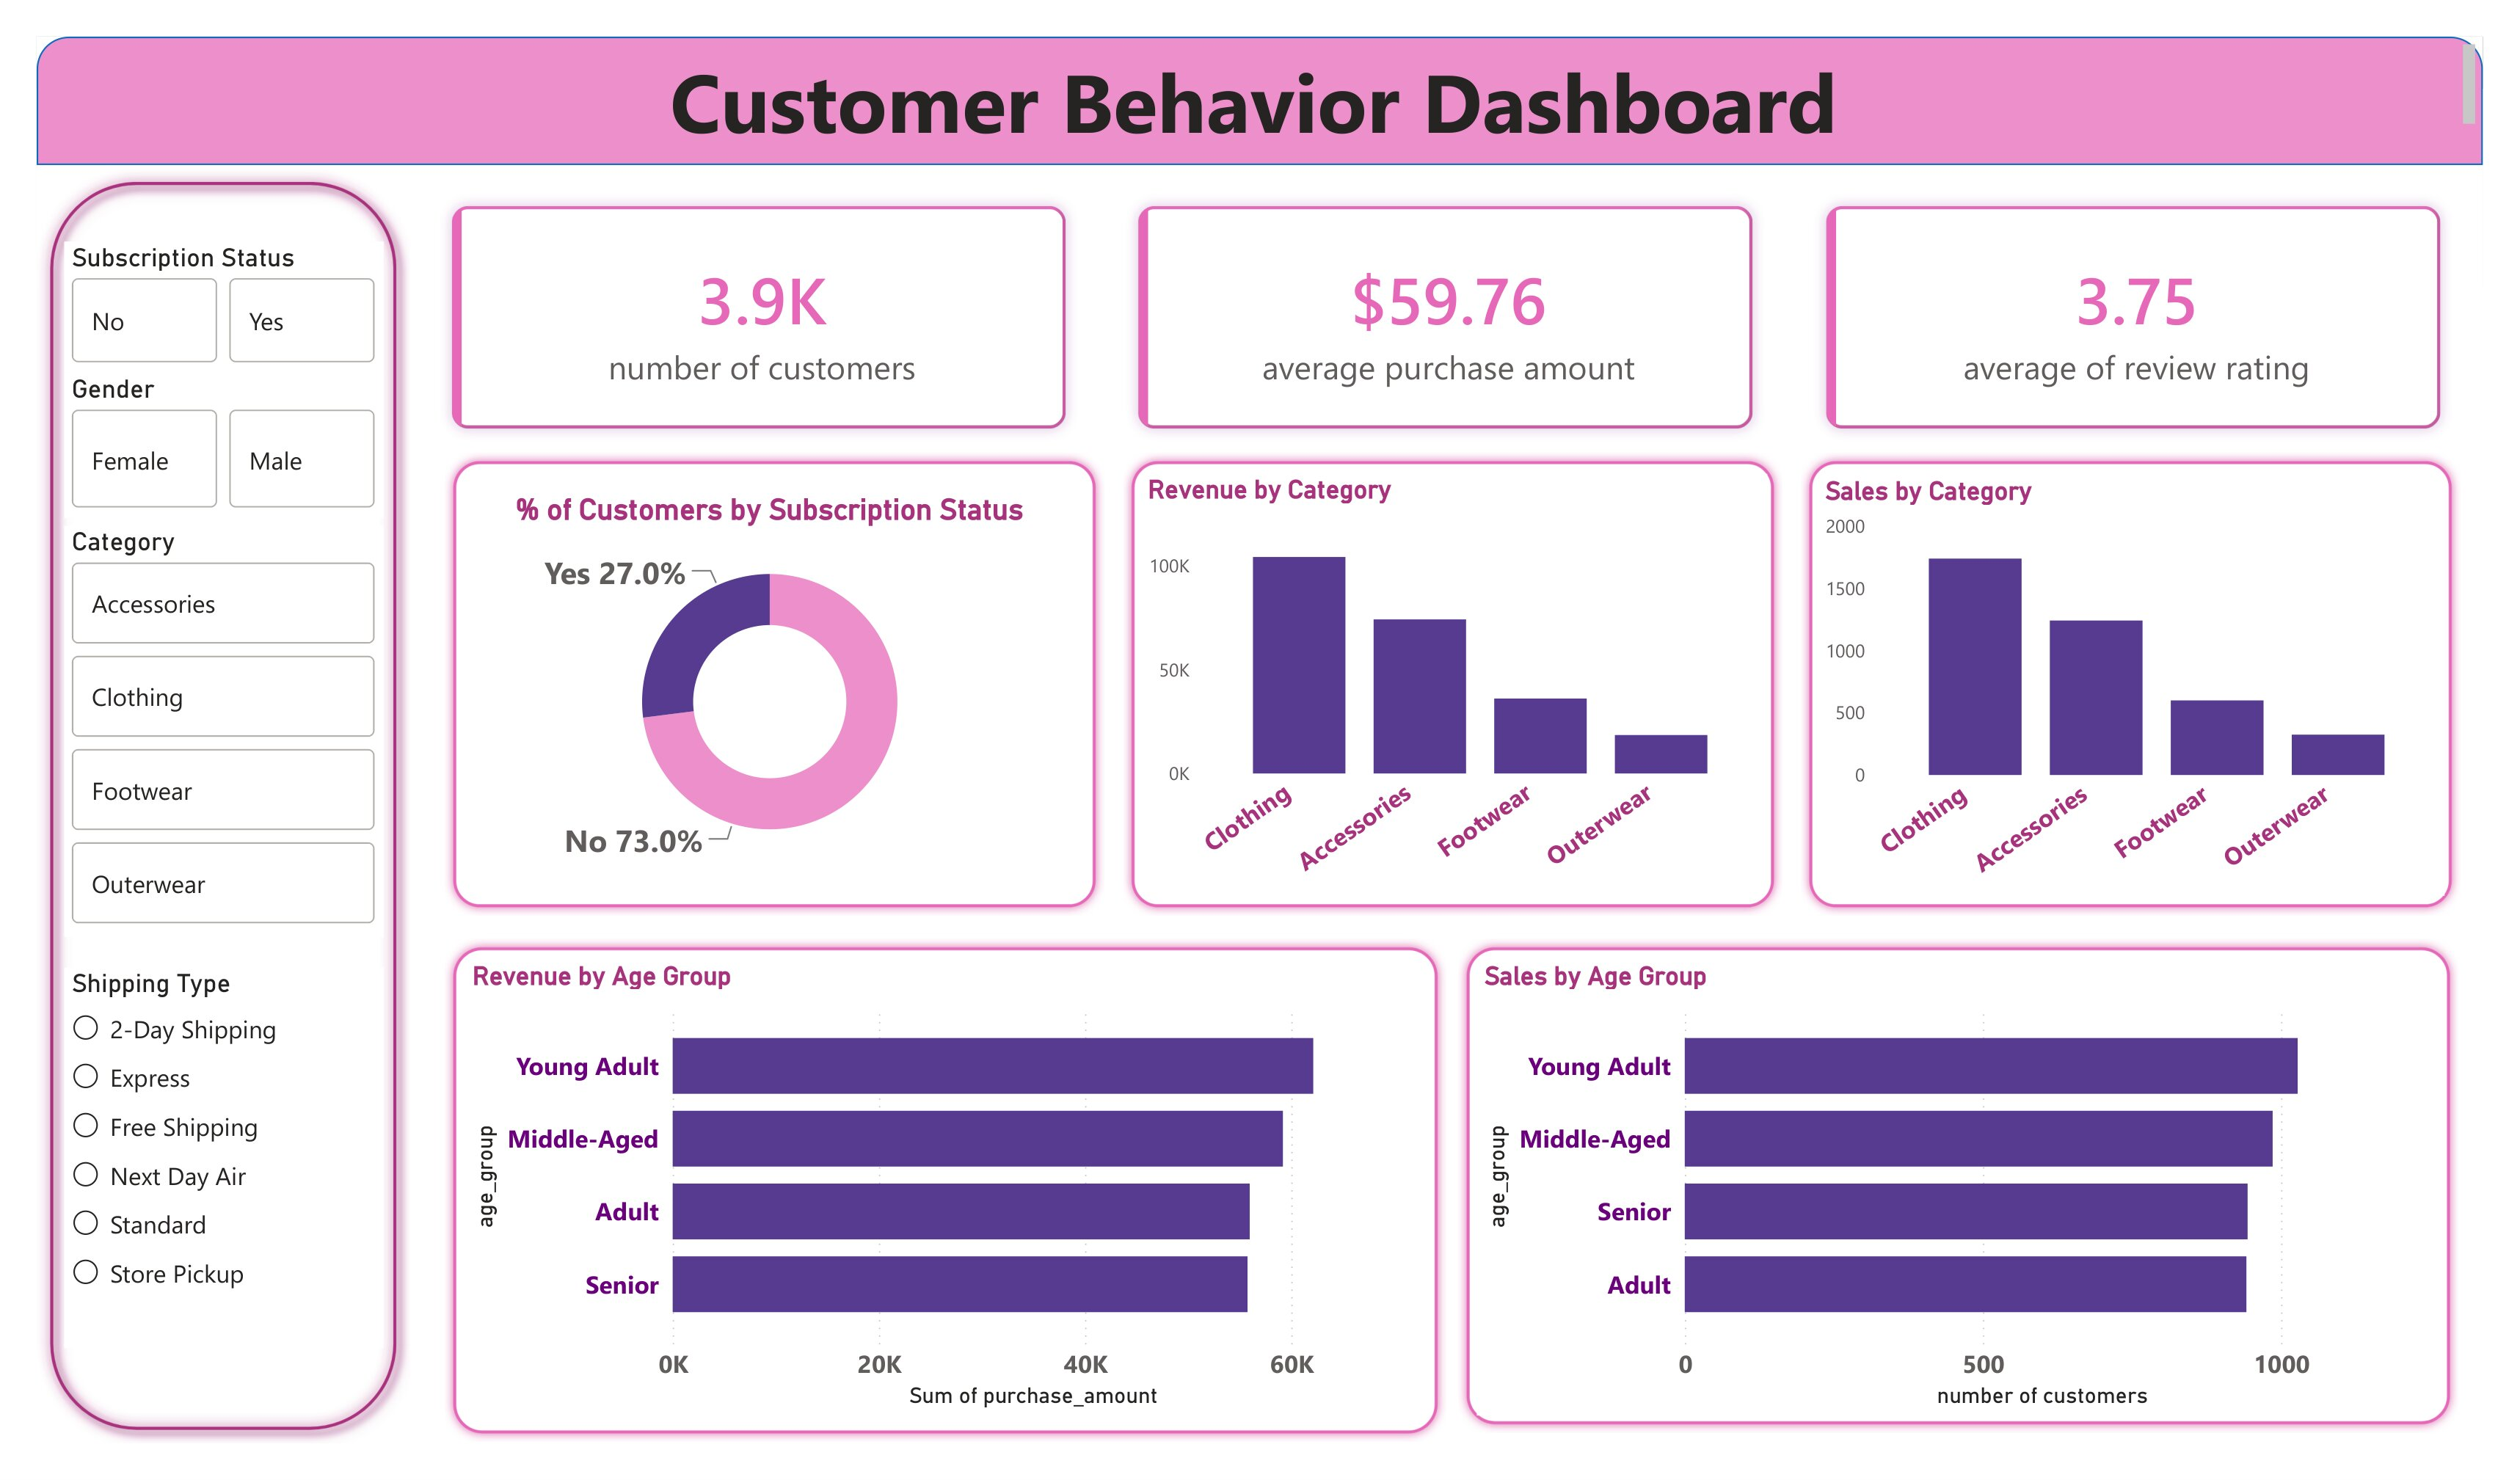

The page's visual inventory and layout, read from the dashboard file:
{"tool":"powerbi","page":{"name":"Page 1","canvas":[1600,920],"ordinal":0},"visuals":[{"type":"shape","box":[0,0,1600,84.3],"z":0,"group":"g7"},{"type":"cardVisual","fields":{"Data":["customer_data.number of customers"]},"box":[244.3,82.6,457.5,201.6],"z":0,"group":"g5"},{"type":"group","id":"g1","title":"Group 2","box":[266.7,271.8,431.5,303.1],"z":0,"group":"g6"},{"type":"cardVisual","fields":{"Data":["customer_data.average purchase amount"]},"box":[693.7,82.6,457.5,201.6],"z":1000,"group":"g5"},{"type":"group","id":"g2","title":"Group 3","box":[710.4,271.8,431.5,303.3],"z":1000,"group":"g6"},{"type":"group","id":"g3","title":"Group 2","box":[267.2,589.9,655.5,328.6],"z":1000,"group":"g9"},{"type":"textbox","box":[0,0,1600,71.3],"z":2000,"group":"g7"},{"type":"cardVisual","fields":{"Data":["customer_data.average of review rating"]},"box":[1143.1,82.6,457.5,201.6],"z":2000,"group":"g5"},{"type":"shape","box":[710.4,271.8,431.5,303.3],"z":2000,"group":"g2"},{"type":"group","id":"g4","title":"Group 4","box":[1154,271.8,431.5,303.3],"z":2000,"group":"g6"},{"type":"group","id":"g5","title":"Group 1","box":[244.3,82.6,1355.7,201.3],"z":3000},{"type":"shape","box":[266.7,271.8,431.5,303.1],"z":3000,"group":"g1"},{"type":"shape","box":[1154,271.8,431.5,303.3],"z":3000,"group":"g4"},{"type":"shape","box":[267.2,589.9,655.5,328.6],"z":3000,"group":"g3"},{"type":"shape","box":[930.7,589.9,653.8,323.4],"z":3000,"group":"g10"},{"type":"group","id":"g6","title":"Group 5","box":[266.7,271.8,1317.8,302.8],"z":4000},{"type":"donutChart","title":"% of Customers by Subscription Status","fields":{"Category":["customer_data.subscription_status"],"Y":["CountNonNull(customer_data.customer_id)"]},"box":[284,297.3,391.2,252],"z":4000,"group":"g1"},{"type":"shape","box":[0,86,244.3,834.4],"z":5000,"group":"g8"},{"type":"advancedSlicerVisual","fields":{"Values":["customer_data.subscription_status"]},"box":[17.8,133.6,208.7,86],"z":6000,"group":"g8"},{"type":"clusteredColumnChart","title":"Revenue by Category","fields":{"Y":["Sum(customer_data.purchase_amount)"],"Category":["customer_data.category"]},"box":[721.3,285.5,409.7,274.3],"z":6000,"group":"g2"},{"type":"clusteredColumnChart","title":"Sales by Category","fields":{"Category":["customer_data.category"],"Y":["customer_data.number of customers"]},"box":[1165.3,287,409.7,274.3],"z":6001,"group":"g4"},{"type":"advancedSlicerVisual","fields":{"Values":["customer_data.gender"]},"box":[17.8,219.6,208.7,95.2],"z":7000,"group":"g8"},{"type":"advancedSlicerVisual","fields":{"Values":["customer_data.category"]},"box":[17.8,320.2,208.7,269],"z":8000,"group":"g8"},{"type":"listSlicer","fields":{"Values":["customer_data.shipping_type"]},"box":[17.8,609.3,208.7,248.9],"z":9000,"group":"g8"},{"type":"clusteredBarChart","title":"Revenue by Age Group","fields":{"Y":["Sum(customer_data.purchase_amount)"],"Category":["customer_data.age_group"]},"box":[280.6,603.8,628,297.6],"z":10000,"group":"g9"},{"type":"clusteredBarChart","title":"Sales by Age Group","fields":{"Y":["customer_data.number of customers"],"Category":["customer_data.age_group"]},"box":[942.8,603.8,628,297.6],"z":10000,"group":"g10"},{"type":"group","id":"g7","title":"Group 6","box":[0,0,1600,84.3],"z":10001},{"type":"group","id":"g8","title":"Group 7","box":[0,86,244.3,834.4],"z":10003},{"type":"group","id":"g9","title":"Group 8","box":[267.2,589.9,655.5,328.6],"z":10004,"group":"g11"},{"type":"group","id":"g10","title":"Group 9","box":[930.7,589.9,653.8,323.4],"z":10005,"group":"g11"},{"type":"group","id":"g11","title":"Group 10","box":[267.2,589.9,1317.2,328.6],"z":10006}]}

Visuals, with their boxes on the page's 1600x920 design canvas (x1, y1, x2, y2). These are canvas units, not pixel positions in the 2520x1480 screenshot, which may show the page scaled, cropped or inside an application window:
shape: left=0, top=0, right=1600, bottom=84
cardVisual - customer_data.number of customers: left=244, top=83, right=702, bottom=284
"Group 2" group: left=267, top=272, right=698, bottom=575
cardVisual - customer_data.average purchase amount: left=694, top=83, right=1151, bottom=284
"Group 3" group: left=710, top=272, right=1142, bottom=575
"Group 2" group: left=267, top=590, right=923, bottom=918
textbox: left=0, top=0, right=1600, bottom=71
cardVisual - customer_data.average of review rating: left=1143, top=83, right=1601, bottom=284
shape: left=710, top=272, right=1142, bottom=575
"Group 4" group: left=1154, top=272, right=1586, bottom=575
"Group 1" group: left=244, top=83, right=1600, bottom=284
shape: left=267, top=272, right=698, bottom=575
shape: left=1154, top=272, right=1586, bottom=575
shape: left=267, top=590, right=923, bottom=918
shape: left=931, top=590, right=1584, bottom=913
"Group 5" group: left=267, top=272, right=1584, bottom=575
"% of Customers by Subscription Status" donutChart: left=284, top=297, right=675, bottom=549
shape: left=0, top=86, right=244, bottom=920
advancedSlicerVisual - customer_data.subscription_status: left=18, top=134, right=226, bottom=220
"Revenue by Category" clusteredColumnChart: left=721, top=286, right=1131, bottom=560
"Sales by Category" clusteredColumnChart: left=1165, top=287, right=1575, bottom=561
advancedSlicerVisual - customer_data.gender: left=18, top=220, right=226, bottom=315
advancedSlicerVisual - customer_data.category: left=18, top=320, right=226, bottom=589
listSlicer - customer_data.shipping_type: left=18, top=609, right=226, bottom=858
"Revenue by Age Group" clusteredBarChart: left=281, top=604, right=909, bottom=901
"Sales by Age Group" clusteredBarChart: left=943, top=604, right=1571, bottom=901
"Group 6" group: left=0, top=0, right=1600, bottom=84
"Group 7" group: left=0, top=86, right=244, bottom=920
"Group 8" group: left=267, top=590, right=923, bottom=918
"Group 9" group: left=931, top=590, right=1584, bottom=913
"Group 10" group: left=267, top=590, right=1584, bottom=918
